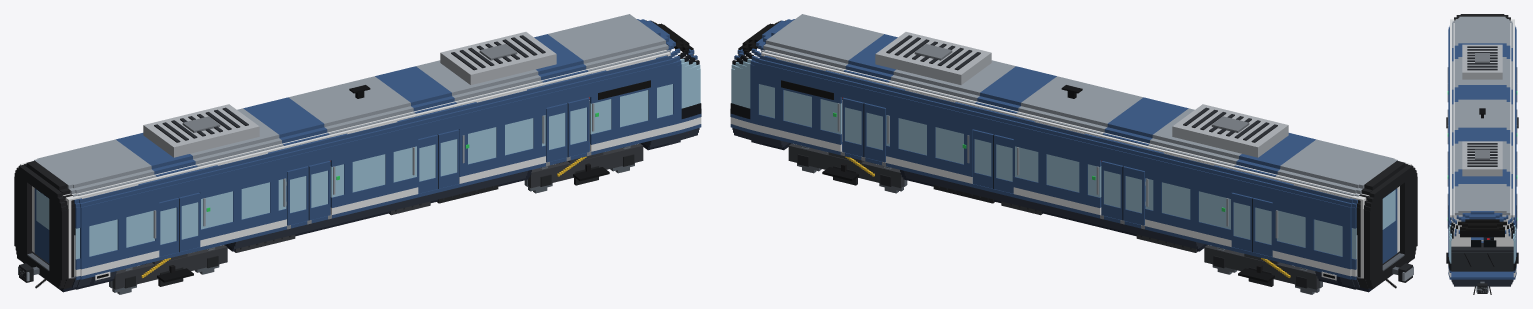
File: moskva_front.obj
3 views of the same model, side by side, from view 1: azimuth 30°, elevation 25°; view 2: azimuth 150°, elevation 25°; view 3: azimuth 270°, elevation 25° (orthographic). The views are drawn at different scales.
Parts seen in each view (by area): view 1: SHELL, SHELL_roof, SHELL_diaphragm, SHELL_ceiling, BOGEY_FRONT, BOGEY_REAR, EXTERNAL_DOOR_21_CG_DR4_TOGGLE_TL_-0.59_X, EXTERNAL_DOOR_9_CG_DR2_TOGGLE_TL_-0.59_X, EXTERNAL_DOOR_10_CG_DR2_TOGGLE_TL_0.59_X, EXTERNAL_DOOR_22_CG_DR4_TOGGLE_TL_0.59_X, EXTERNAL_DOOR_15_CG_DR3_TOGGLE_TL_-0.59_X, EXTERNAL_DOOR_4_CG_DR1_TOGGLE_TL_0.59_X (+6 smaller); view 2: SHELL, SHELL_roof, SHELL_diaphragm, SHELL_ceiling, BOGEY_FRONT, BOGEY_REAR, EXTERNAL_DOOR_24_CG_DL4_TOGGLE_TL_-0.59_X, EXTERNAL_DOOR_12_CG_DL2_TOGGLE_TL_-0.59_X, EXTERNAL_DOOR_13_CG_DL2_TOGGLE_TL_0.59_X, EXTERNAL_DOOR_25_CG_DL4_TOGGLE_TL_0.59_X, EXTERNAL_DOOR_18_CG_DL3_TOGGLE_TL_-0.59_X, EXTERNAL_DOOR_7_CG_DL1_TOGGLE_TL_0.59_X (+6 smaller); view 3: SHELL, SHELL_roof, SHELL_desk, SHELL_ceiling, SHELL_cabwall, SHELL_handle, SHELL_destbox, FRAME, BOGEY_FRONT.
Boxes of the visible parts, left/top/right/bottom form: SHELL: left=23, top=14, right=701, bottom=292; SHELL_roof: left=143, top=32, right=556, bottom=157; SHELL_diaphragm: left=14, top=164, right=66, bottom=288; SHELL_ceiling: left=22, top=50, right=667, bottom=200; BOGEY_FRONT: left=528, top=143, right=643, bottom=188; BOGEY_REAR: left=112, top=245, right=227, bottom=289; EXTERNAL_DOOR_21_CG_DR4_TOGGLE_TL_-0.59_X: left=545, top=103, right=568, bottom=162; EXTERNAL_DOOR_9_CG_DR2_TOGGLE_TL_-0.59_X: left=286, top=166, right=309, bottom=225; EXTERNAL_DOOR_10_CG_DR2_TOGGLE_TL_0.59_X: left=309, top=161, right=330, bottom=219; EXTERNAL_DOOR_22_CG_DR4_TOGGLE_TL_0.59_X: left=568, top=97, right=589, bottom=156; EXTERNAL_DOOR_15_CG_DR3_TOGGLE_TL_-0.59_X: left=417, top=134, right=438, bottom=193; EXTERNAL_DOOR_4_CG_DR1_TOGGLE_TL_0.59_X: left=179, top=192, right=200, bottom=251; SHELL: left=730, top=14, right=1408, bottom=292; SHELL_roof: left=875, top=32, right=1288, bottom=157; SHELL_diaphragm: left=1365, top=164, right=1417, bottom=288; SHELL_ceiling: left=764, top=50, right=1409, bottom=200; BOGEY_FRONT: left=788, top=143, right=903, bottom=188; BOGEY_REAR: left=1204, top=245, right=1319, bottom=289; EXTERNAL_DOOR_24_CG_DL4_TOGGLE_TL_-0.59_X: left=863, top=103, right=886, bottom=162; EXTERNAL_DOOR_12_CG_DL2_TOGGLE_TL_-0.59_X: left=1122, top=166, right=1145, bottom=225; EXTERNAL_DOOR_13_CG_DL2_TOGGLE_TL_0.59_X: left=1101, top=161, right=1122, bottom=219; EXTERNAL_DOOR_25_CG_DL4_TOGGLE_TL_0.59_X: left=842, top=97, right=864, bottom=156; EXTERNAL_DOOR_18_CG_DL3_TOGGLE_TL_-0.59_X: left=993, top=134, right=1014, bottom=193; EXTERNAL_DOOR_7_CG_DL1_TOGGLE_TL_0.59_X: left=1231, top=192, right=1252, bottom=251; SHELL: left=1448, top=14, right=1516, bottom=286; SHELL_roof: left=1462, top=44, right=1502, bottom=176; SHELL_desk: left=1451, top=240, right=1513, bottom=271; SHELL_ceiling: left=1450, top=20, right=1514, bottom=214; SHELL_cabwall: left=1450, top=214, right=1514, bottom=246; SHELL_handle: left=1447, top=67, right=1517, bottom=228; SHELL_destbox: left=1460, top=230, right=1504, bottom=237; FRAME: left=1473, top=281, right=1491, bottom=294; BOGEY_FRONT: left=1446, top=252, right=1518, bottom=263.
Size of the model in its own units: 20.44 by 3.96 by 2.84.
1 material, 1 textured.
